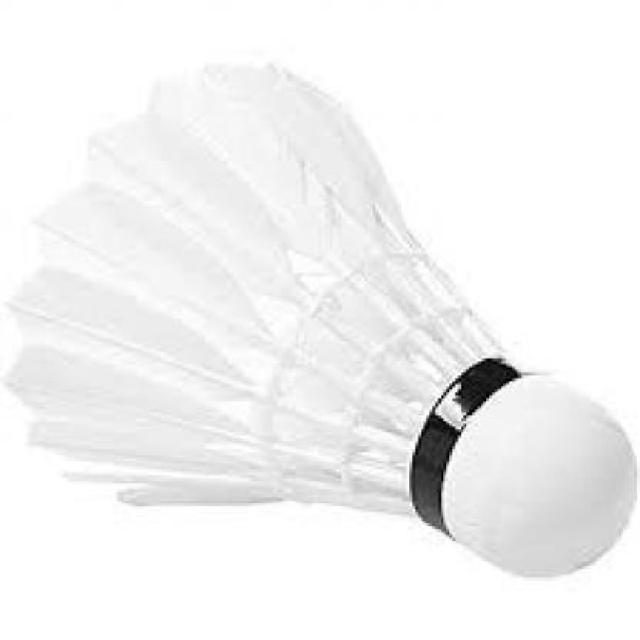Shuttlecock: (3, 57, 638, 576)
